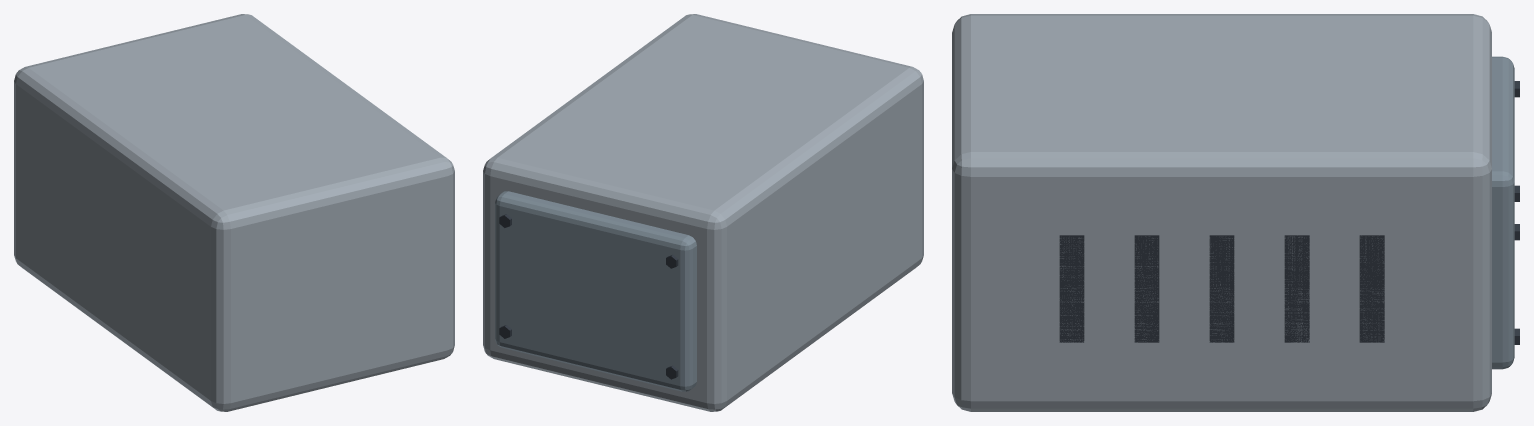
The model's file is specimen_sensor_housing.glb.
3 views of the same model, side by side, from view 1: azimuth 30°, elevation 25°; view 2: azimuth 150°, elevation 25°; view 3: azimuth 270°, elevation 25° (orthographic). The views are drawn at different scales.
Visible parts, largest first — view 1: specimen_sensor_housing; view 2: specimen_sensor_housing; view 3: specimen_sensor_housing.
Boxes of the visible parts, left/top/right/bottom form: specimen_sensor_housing: left=14, top=14, right=454, bottom=411; specimen_sensor_housing: left=483, top=14, right=923, bottom=411; specimen_sensor_housing: left=952, top=14, right=1519, bottom=411.
Size of the model in its own units: 0.48 by 0.38 by 0.757.
